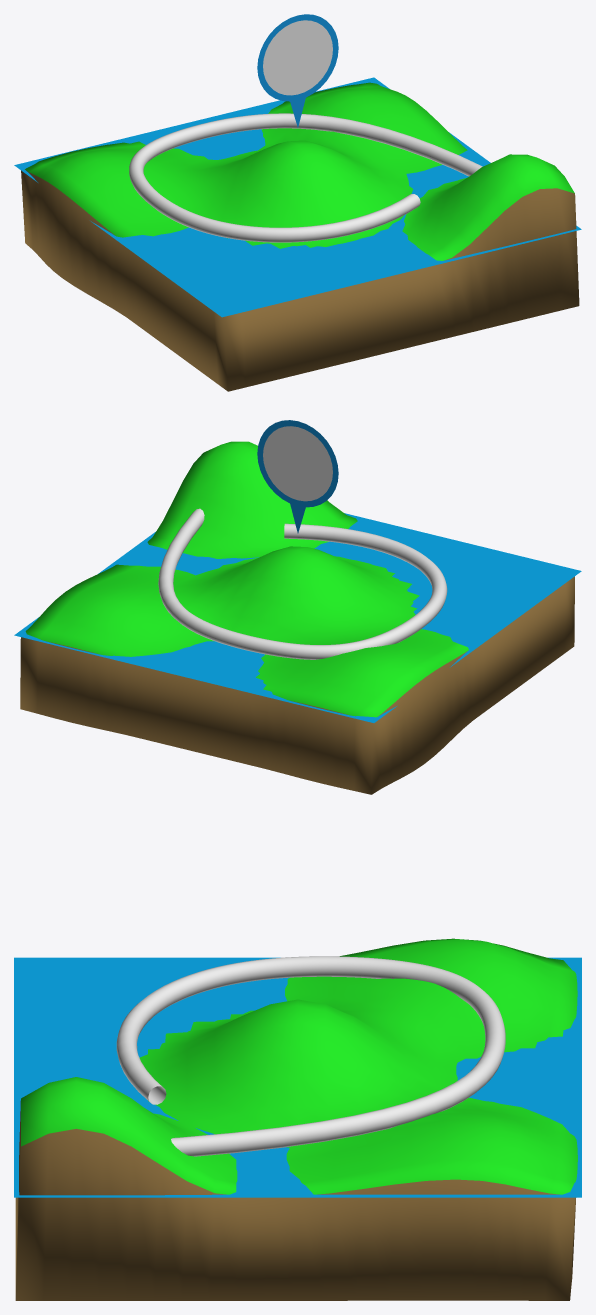
The model's file is SRW.glb.
3 renders of one model, top to bottom at view 1: azimuth 30°, elevation 25°; view 2: azimuth 150°, elevation 25°; view 3: azimuth 270°, elevation 25°, orthographic. The views are drawn at different scales.
Parts seen in each view (by area): view 1: Terrain, sea, Tube, Mark; view 2: Terrain, sea, Tube, Mark; view 3: Terrain, sea, Tube.
Boxes of the visible parts, <box> form: Terrain: <box>21,82,579,391</box>; sea: <box>14,77,581,317</box>; Tube: <box>129,113,482,242</box>; Mark: <box>257,14,338,127</box>; Terrain: <box>20,441,574,794</box>; sea: <box>14,513,581,722</box>; Tube: <box>158,508,447,659</box>; Mark: <box>257,420,338,533</box>; Terrain: <box>15,938,577,1300</box>; sea: <box>14,957,581,1197</box>; Tube: <box>116,956,505,1156</box>.
Bounding box in the file's own units: 8.94 × 6.07 × 8.85.
